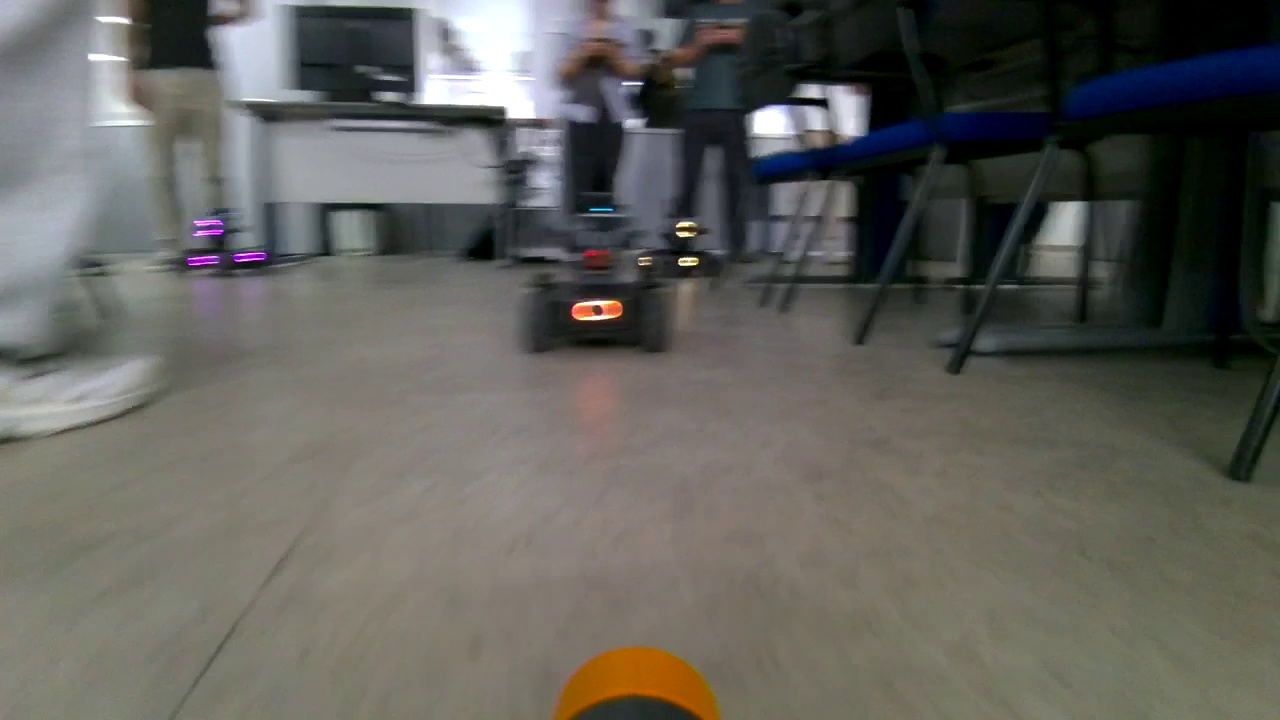robot: (511, 172, 678, 357)
